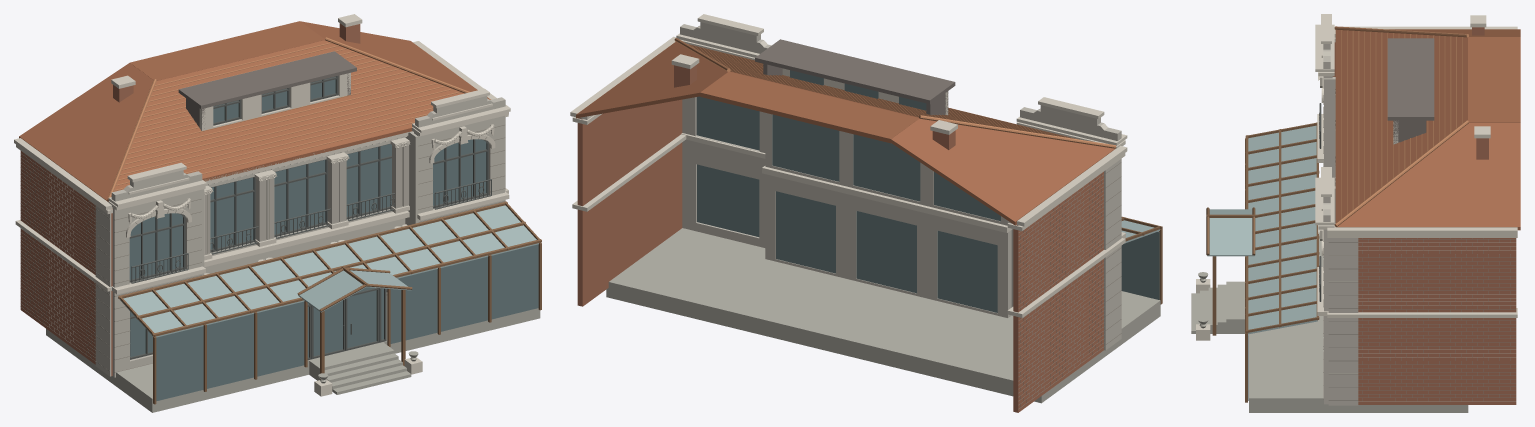
The model's file is xuhui-donghu-hotel-house-seven-raw.glb.
The picture shows the model from 3 angles, left to right: view 1: azimuth 30°, elevation 25°; view 2: azimuth 150°, elevation 25°; view 3: azimuth 270°, elevation 25°; orthographic projection. The views are drawn at different scales.
Parts seen in each view (by area): view 1: 东湖宾馆七号楼花园立面; view 2: 东湖宾馆七号楼花园立面; view 3: 东湖宾馆七号楼花园立面.
Boxes of the visible parts, x1=… form: 东湖宾馆七号楼花园立面: x1=14, y1=14, x2=541, y2=412; 东湖宾馆七号楼花园立面: x1=570, y1=14, x2=1162, y2=412; 东湖宾馆七号楼花园立面: x1=1191, y1=14, x2=1520, y2=412.
Size of the model in its own units: 19.82 by 11.02 by 13.52.
